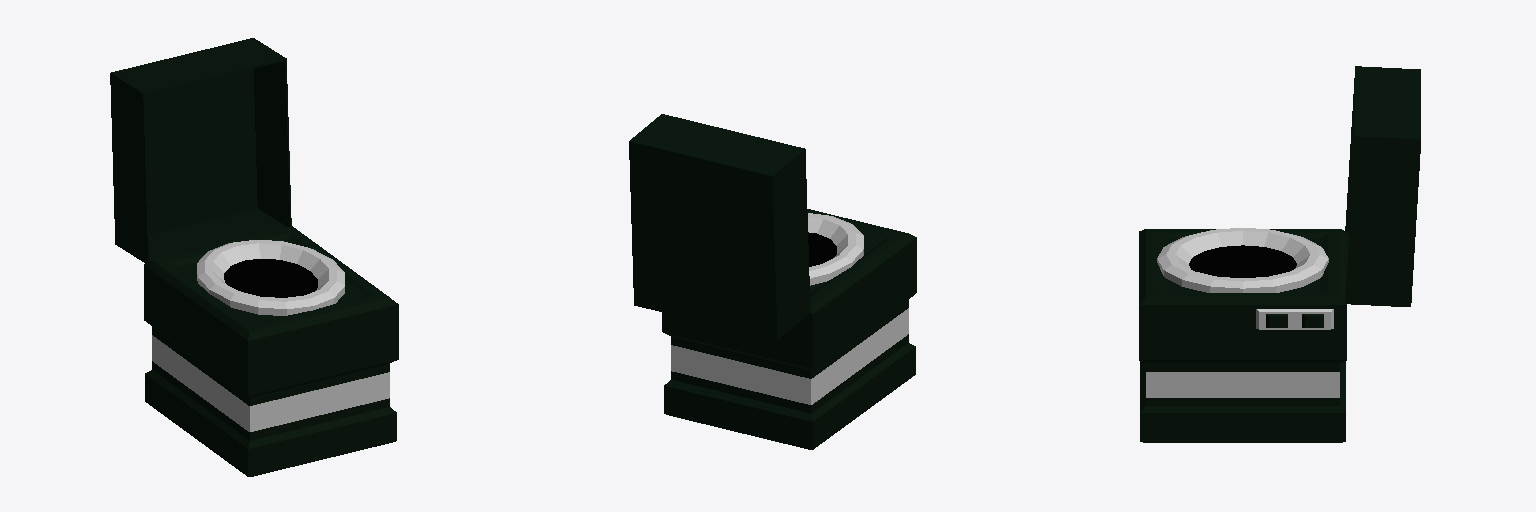
The model's file is Биотуалет.obj.
3 renders of one model, left to right at view 1: azimuth 30°, elevation 25°; view 2: azimuth 150°, elevation 25°; view 3: azimuth 270°, elevation 25°, orthographic.
Parts seen in each view (by area): view 1: Cube, Cube.001, Cylinder; view 2: Cube.001, Cube, Cylinder; view 3: Cube, Cube.001, Cylinder.
Boxes of the visible parts, x1=… form: Cube: x1=144, y1=226, x2=398, y2=476; Cube.001: x1=110, y1=38, x2=291, y2=263; Cylinder: x1=197, y1=240, x2=344, y2=315; Cube.001: x1=629, y1=114, x2=810, y2=339; Cube: x1=662, y1=209, x2=916, y2=449; Cylinder: x1=808, y1=213, x2=863, y2=285; Cube: x1=1139, y1=229, x2=1346, y2=442; Cube.001: x1=1345, y1=66, x2=1420, y2=306; Cylinder: x1=1157, y1=228, x2=1328, y2=292.
Size of the model in its own units: 2.09 by 3.89 by 3.25.